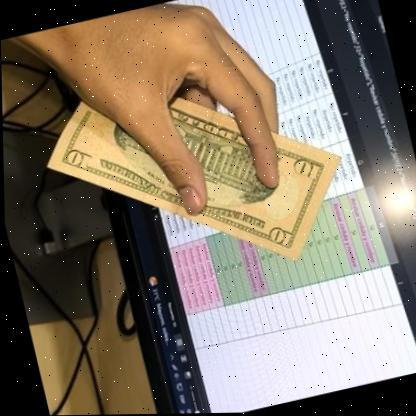ten-back: (27, 41, 362, 314)
